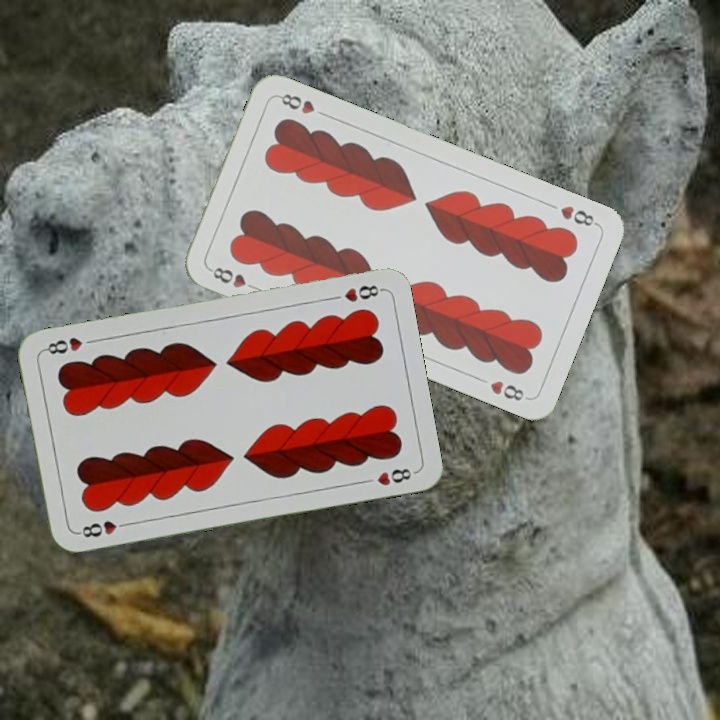H8: (205, 263, 262, 293), (73, 516, 132, 540), (326, 281, 385, 305), (556, 201, 601, 229)
